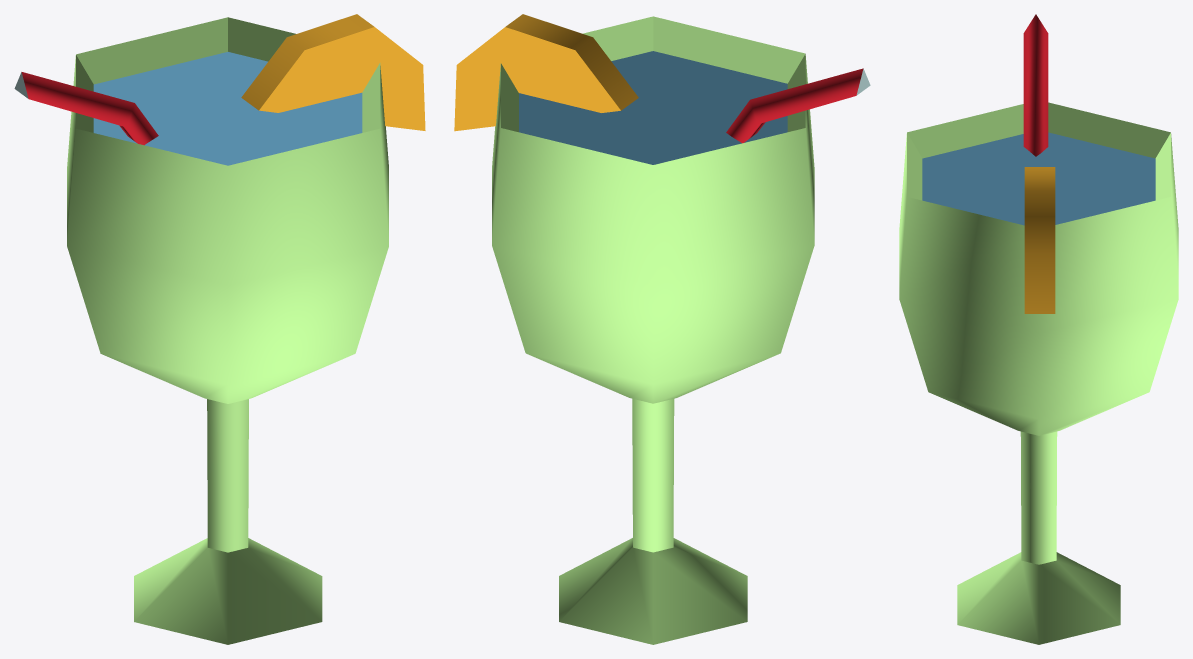
The model's file is Drink_02.fbx.
3 views of the same model, side by side, from view 1: azimuth 30°, elevation 25°; view 2: azimuth 150°, elevation 25°; view 3: azimuth 270°, elevation 25° (orthographic). The views are drawn at different scales.
Visible parts, largest first — view 1: Drink_02; view 2: Drink_02; view 3: Drink_02.
Part boxes in pixels (left/top/right/bottom): Drink_02: left=14, top=14, right=425, bottom=644; Drink_02: left=454, top=14, right=870, bottom=644; Drink_02: left=899, top=14, right=1178, bottom=644.
Size of the model in its own units: 142 by 198 by 99.79.
